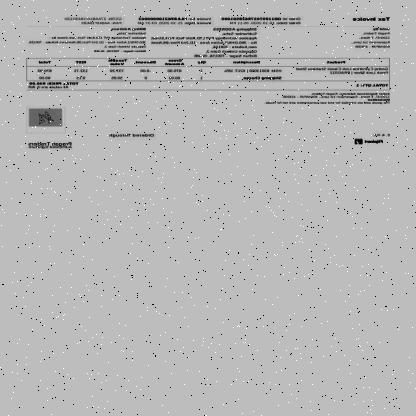Paragraph: (150, 27, 258, 58), (28, 27, 148, 53), (264, 92, 392, 106), (350, 27, 392, 49), (221, 16, 302, 26), (136, 17, 212, 25), (63, 17, 123, 25), (27, 141, 74, 150), (27, 82, 79, 89), (108, 132, 156, 138), (352, 16, 392, 22), (355, 82, 390, 88), (364, 139, 384, 145), (371, 133, 391, 137)
Table: (27, 58, 390, 82)
